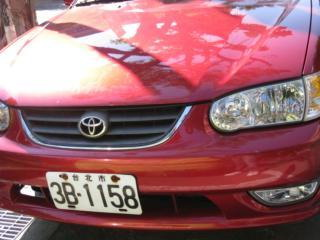plate: (41, 168, 143, 216)
